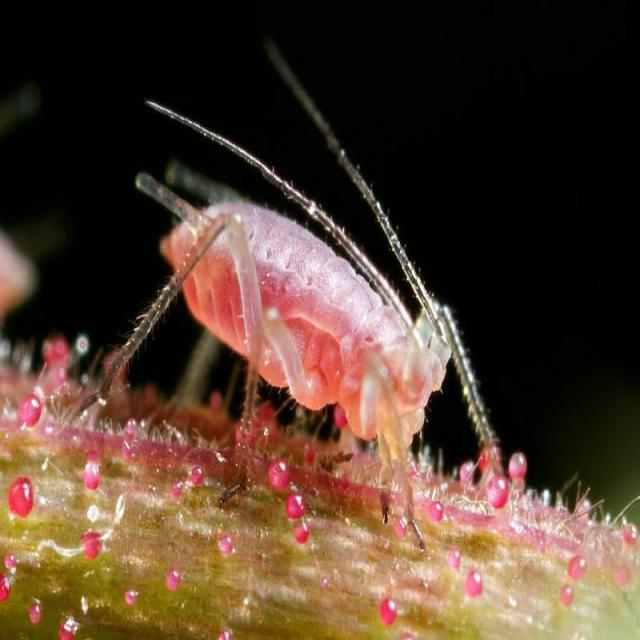Aphids: (97, 92, 524, 588)
